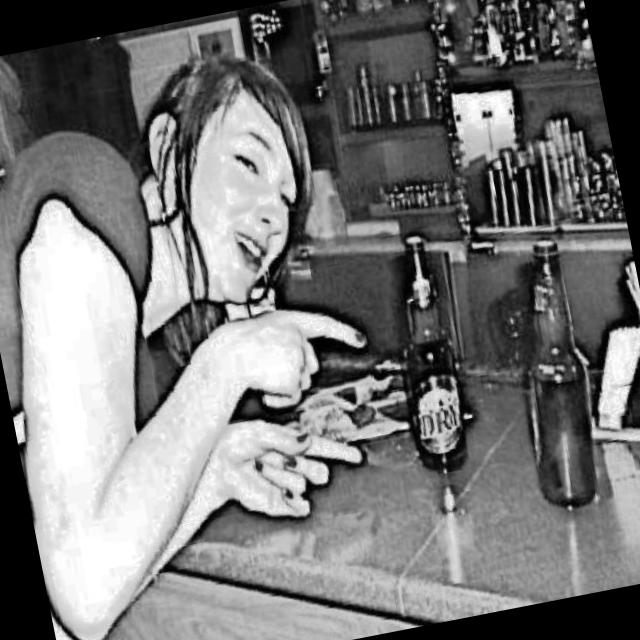Person: (0, 25, 425, 640), (0, 51, 51, 209)
